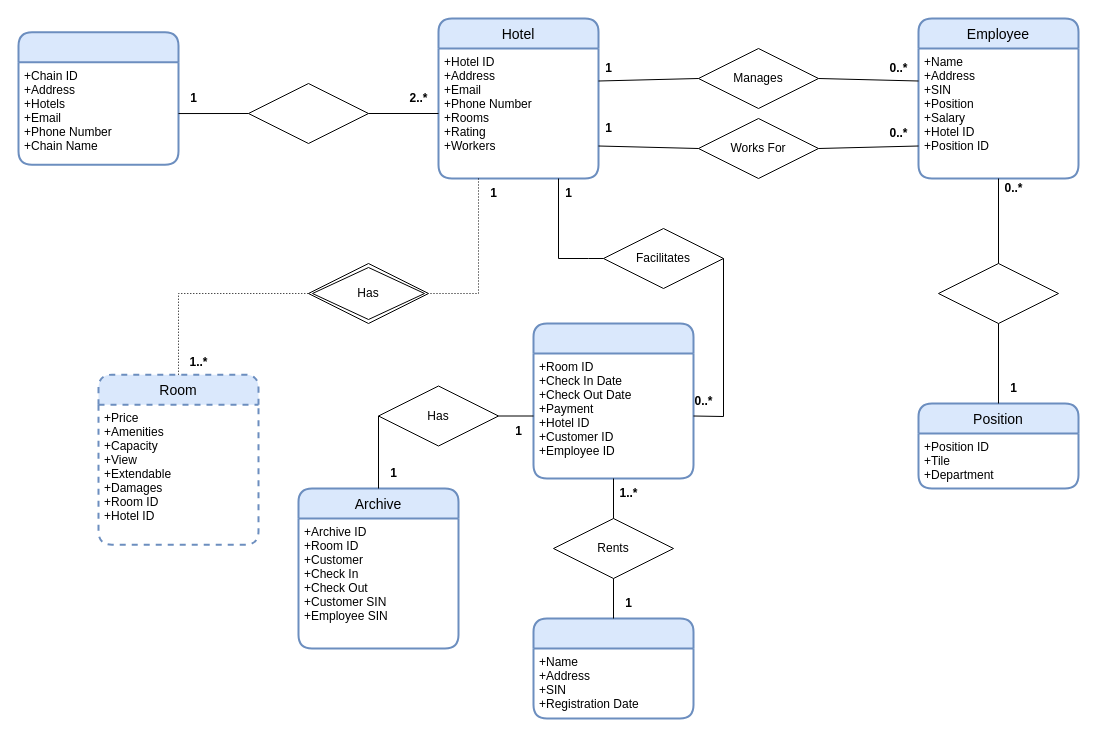
This 1096x736 diagram has some shape labels left out. The shapes that lost their labels are listed below. From the top down, each one's box as (x1, y1, x2, y2) in pixels, then its label:
(17, 31, 179, 165): Hotel Chain
(248, 82, 368, 144): Owns
(938, 262, 1058, 324): Works As
(532, 322, 694, 479): Renting/Booking
(532, 617, 694, 719): Customer
